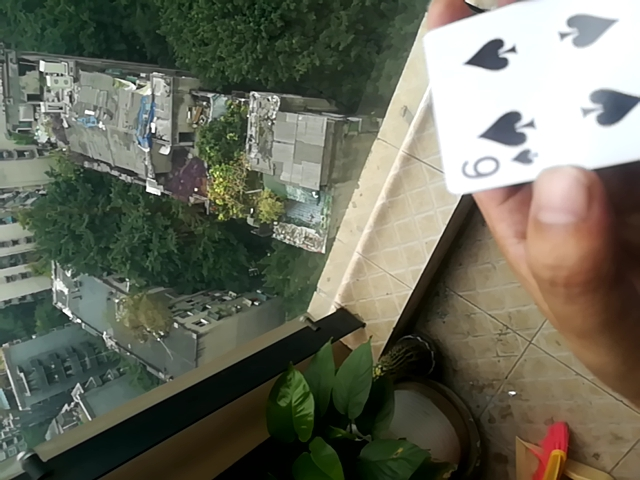ht 6: (412, 0, 639, 198)
